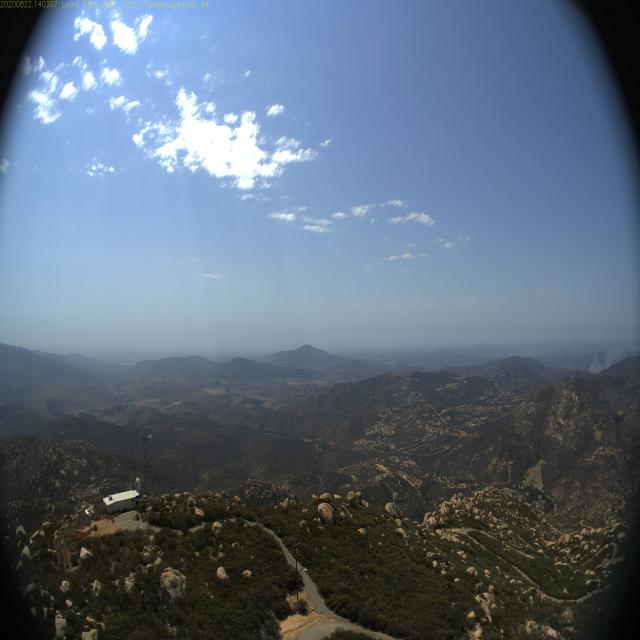smoke: (582, 338, 630, 377)
